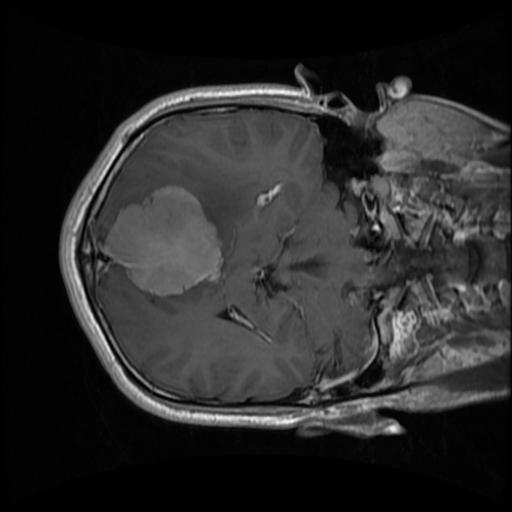meningioma: (103, 185, 223, 296)
